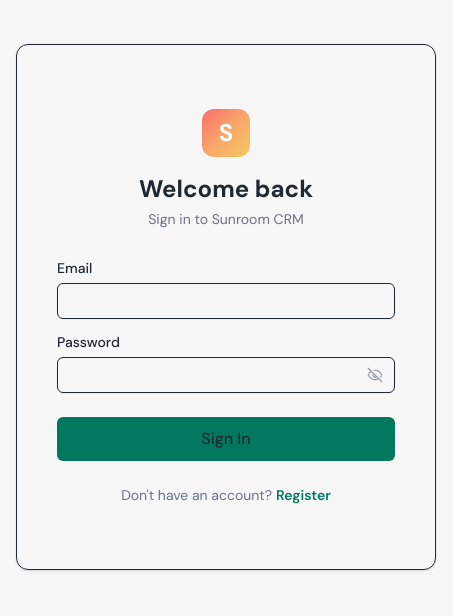
it: LoginPage › shows validation errors when submitted with empty fields
Click the button "Sign In": (226, 439) [57, 417, 395, 461]
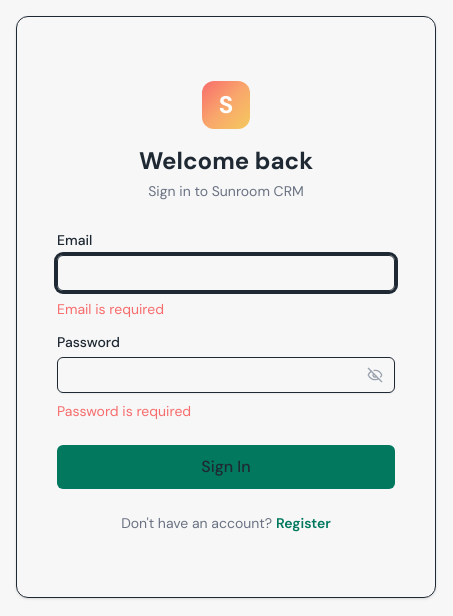
Now the text "Email is required" is shown, box [57, 300, 164, 318]
Now the text "Password is required" is shown, box [57, 402, 191, 420]
